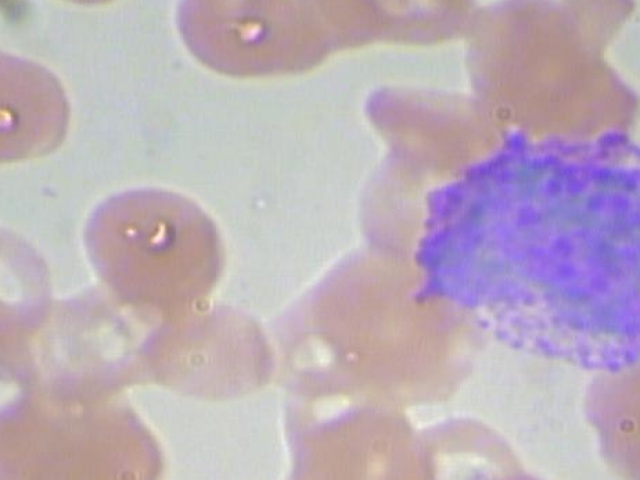RBC: (72, 176, 242, 309), (137, 289, 286, 410), (12, 285, 161, 406), (0, 383, 174, 480), (357, 70, 521, 169), (467, 0, 588, 117), (0, 31, 93, 165), (285, 395, 429, 480), (403, 395, 546, 480), (155, 0, 304, 79), (206, 0, 355, 79), (277, 0, 426, 58), (0, 210, 67, 331), (338, 0, 487, 49), (0, 313, 53, 434), (10, 0, 186, 11), (485, 0, 640, 11)
WBC: (407, 129, 640, 371)
